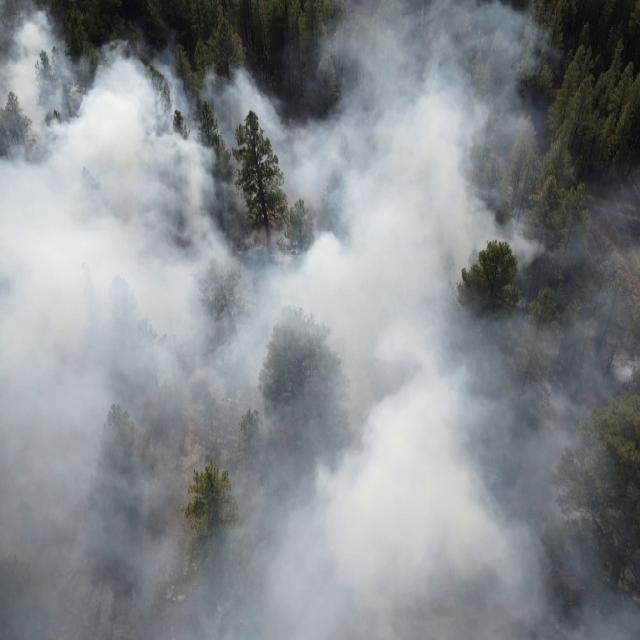smoke: (285, 0, 551, 640), (65, 40, 181, 640), (550, 172, 640, 640), (0, 0, 64, 640), (182, 66, 252, 640), (252, 87, 284, 640)
